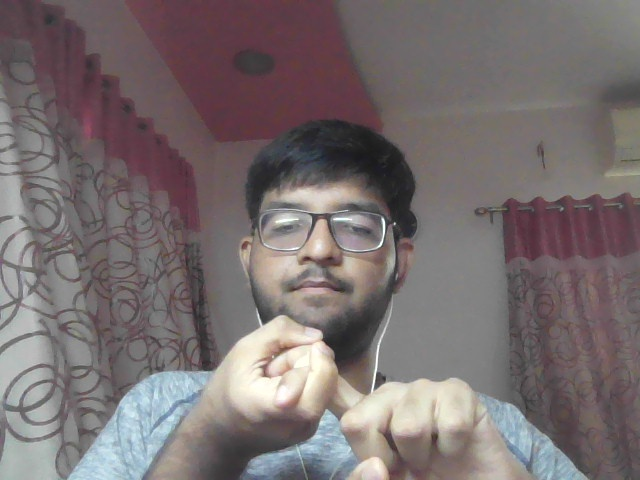મિત્ર: (121, 308, 569, 480)
